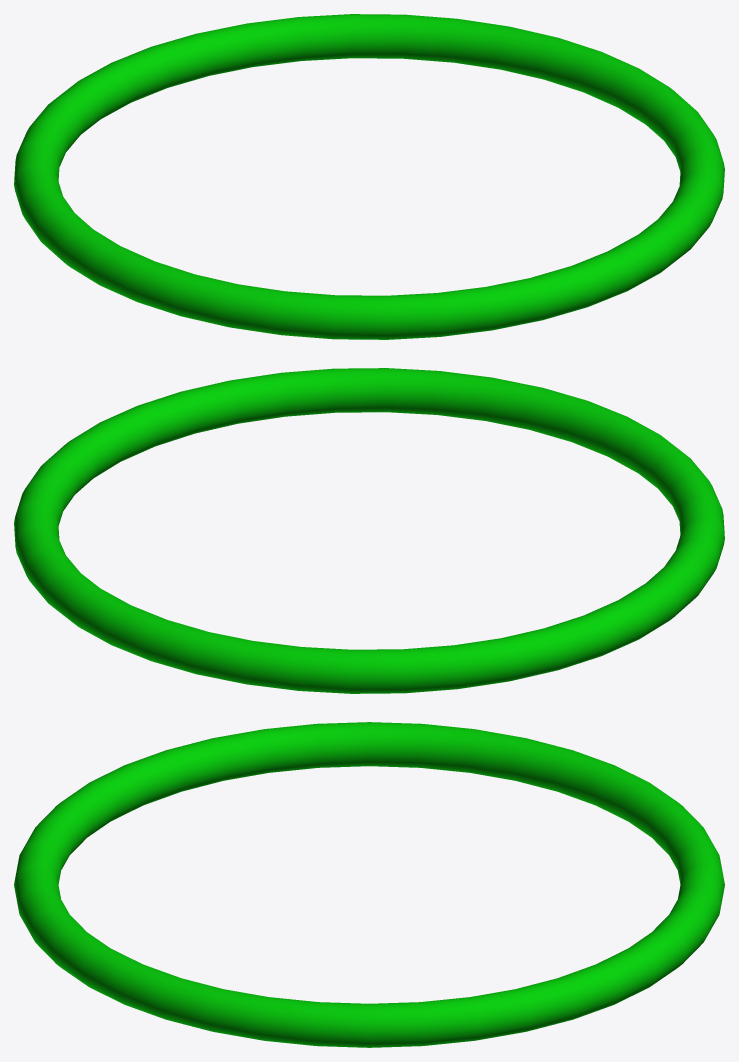
File: Ring01.fbx
The picture shows the model from 3 angles, top to bottom: view 1: azimuth 30°, elevation 25°; view 2: azimuth 150°, elevation 25°; view 3: azimuth 270°, elevation 25°; orthographic projection.
Visible parts, largest first — view 1: mqo_mesh; view 2: mqo_mesh; view 3: mqo_mesh.
Boxes of the visible parts, x1=… form: mqo_mesh: x1=14, y1=14, x2=724, y2=339; mqo_mesh: x1=14, y1=368, x2=724, y2=693; mqo_mesh: x1=14, y1=722, x2=724, y2=1047.
Size of the model in its own units: 240 by 15 by 240.
